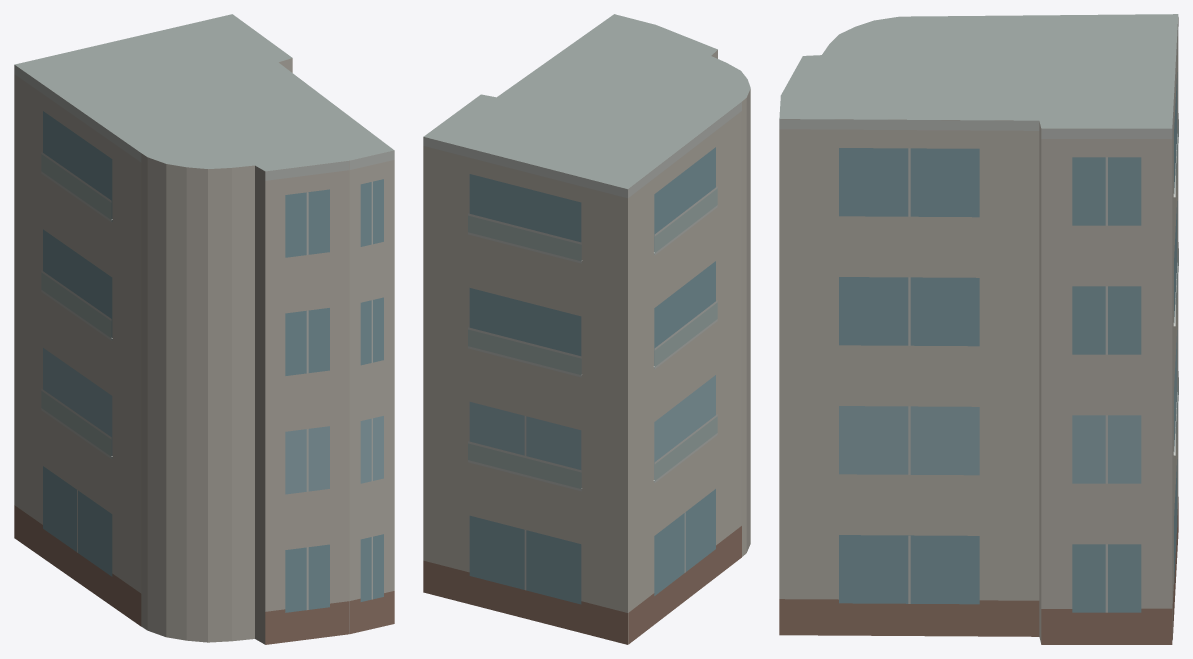
Rendered from survey-upis-32474063.glb.
The picture shows the model from 3 angles, left to right: view 1: azimuth 30°, elevation 25°; view 2: azimuth 150°, elevation 25°; view 3: azimuth 270°, elevation 25°; orthographic projection. The views are drawn at different scales.
Visible parts, largest first — view 1: survey-upis-32474063.tmp; view 2: survey-upis-32474063.tmp; view 3: survey-upis-32474063.tmp.
Part boxes in pixels (x1,y1,x2,y2): survey-upis-32474063.tmp: (14, 14, 394, 644); survey-upis-32474063.tmp: (423, 14, 750, 644); survey-upis-32474063.tmp: (779, 14, 1178, 644).
Bounding box in the file's own units: 5.83 × 12.2 × 8.56.
